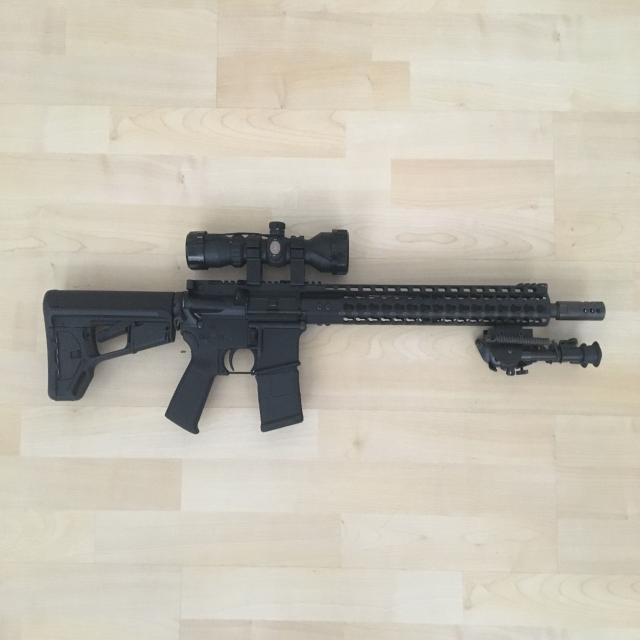Rifle: (49, 222, 607, 434)
